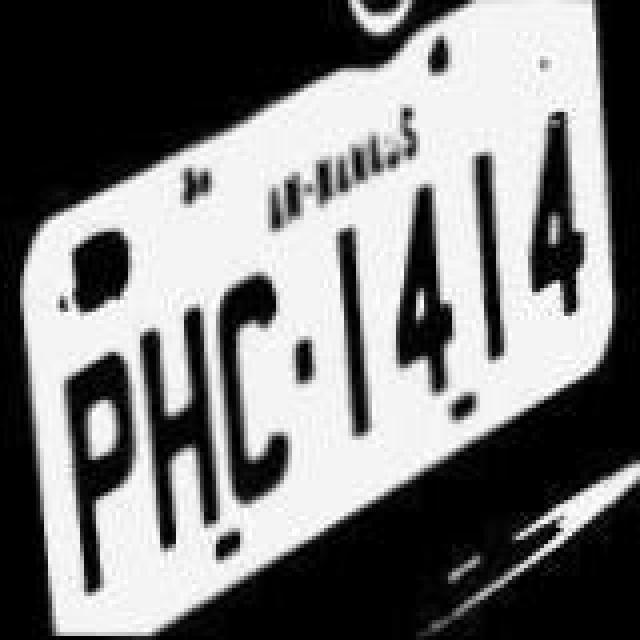1: (332, 222, 380, 462), (460, 148, 508, 380)
4: (512, 88, 600, 336), (384, 184, 456, 408)
C: (214, 264, 294, 512)
H: (134, 258, 222, 550)
P: (52, 320, 140, 616)
